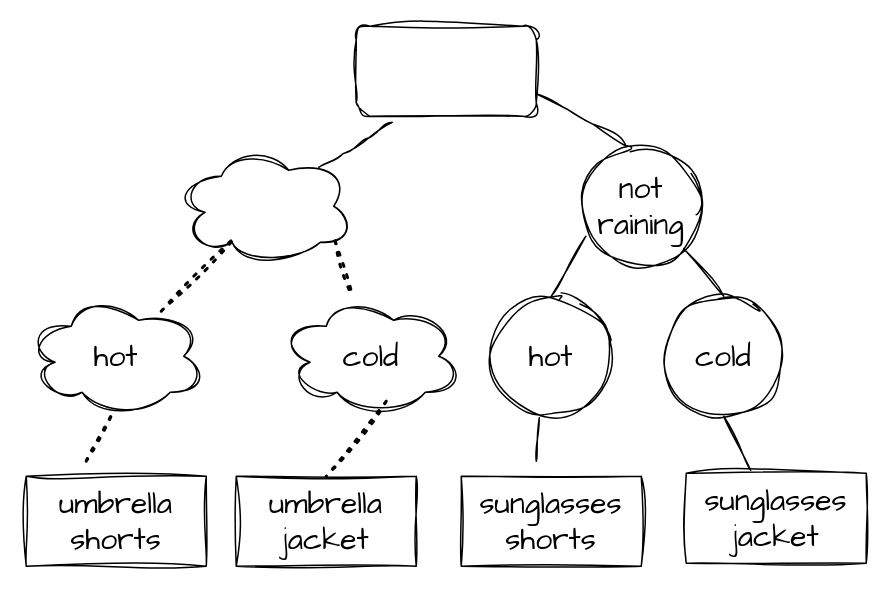
The diagram is 893 pixels wide and 593 high, and some of its shapes have lost their labels. Here are the shapes that lost their labels. From the top down, the box of each, then its label:
(355, 25, 536, 116): London weather
(175, 145, 356, 266): rain
